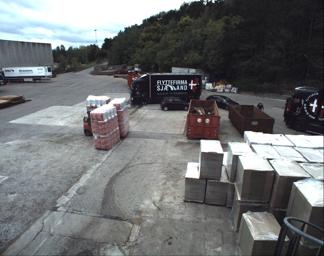rockwool_batts: (89, 105, 118, 151), (110, 97, 130, 136), (85, 94, 108, 112)
